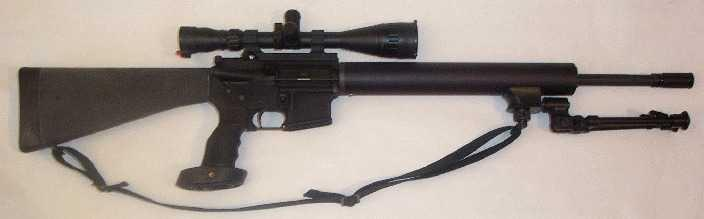heavyweapon: (10, 11, 699, 198)
